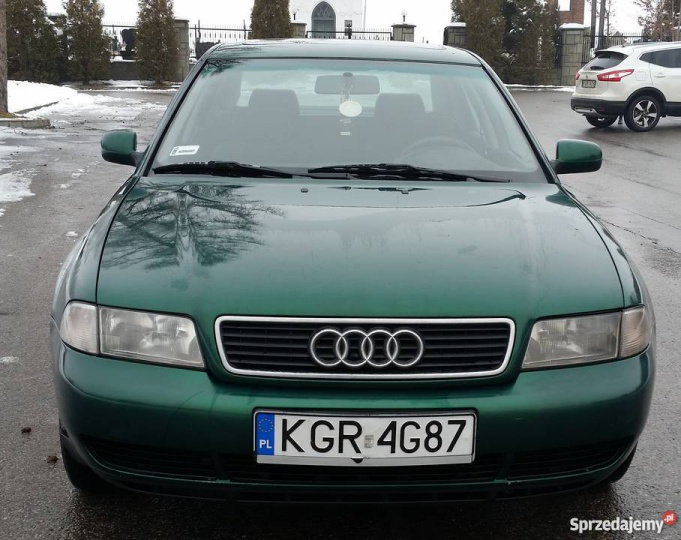audi: (306, 323, 430, 374)
